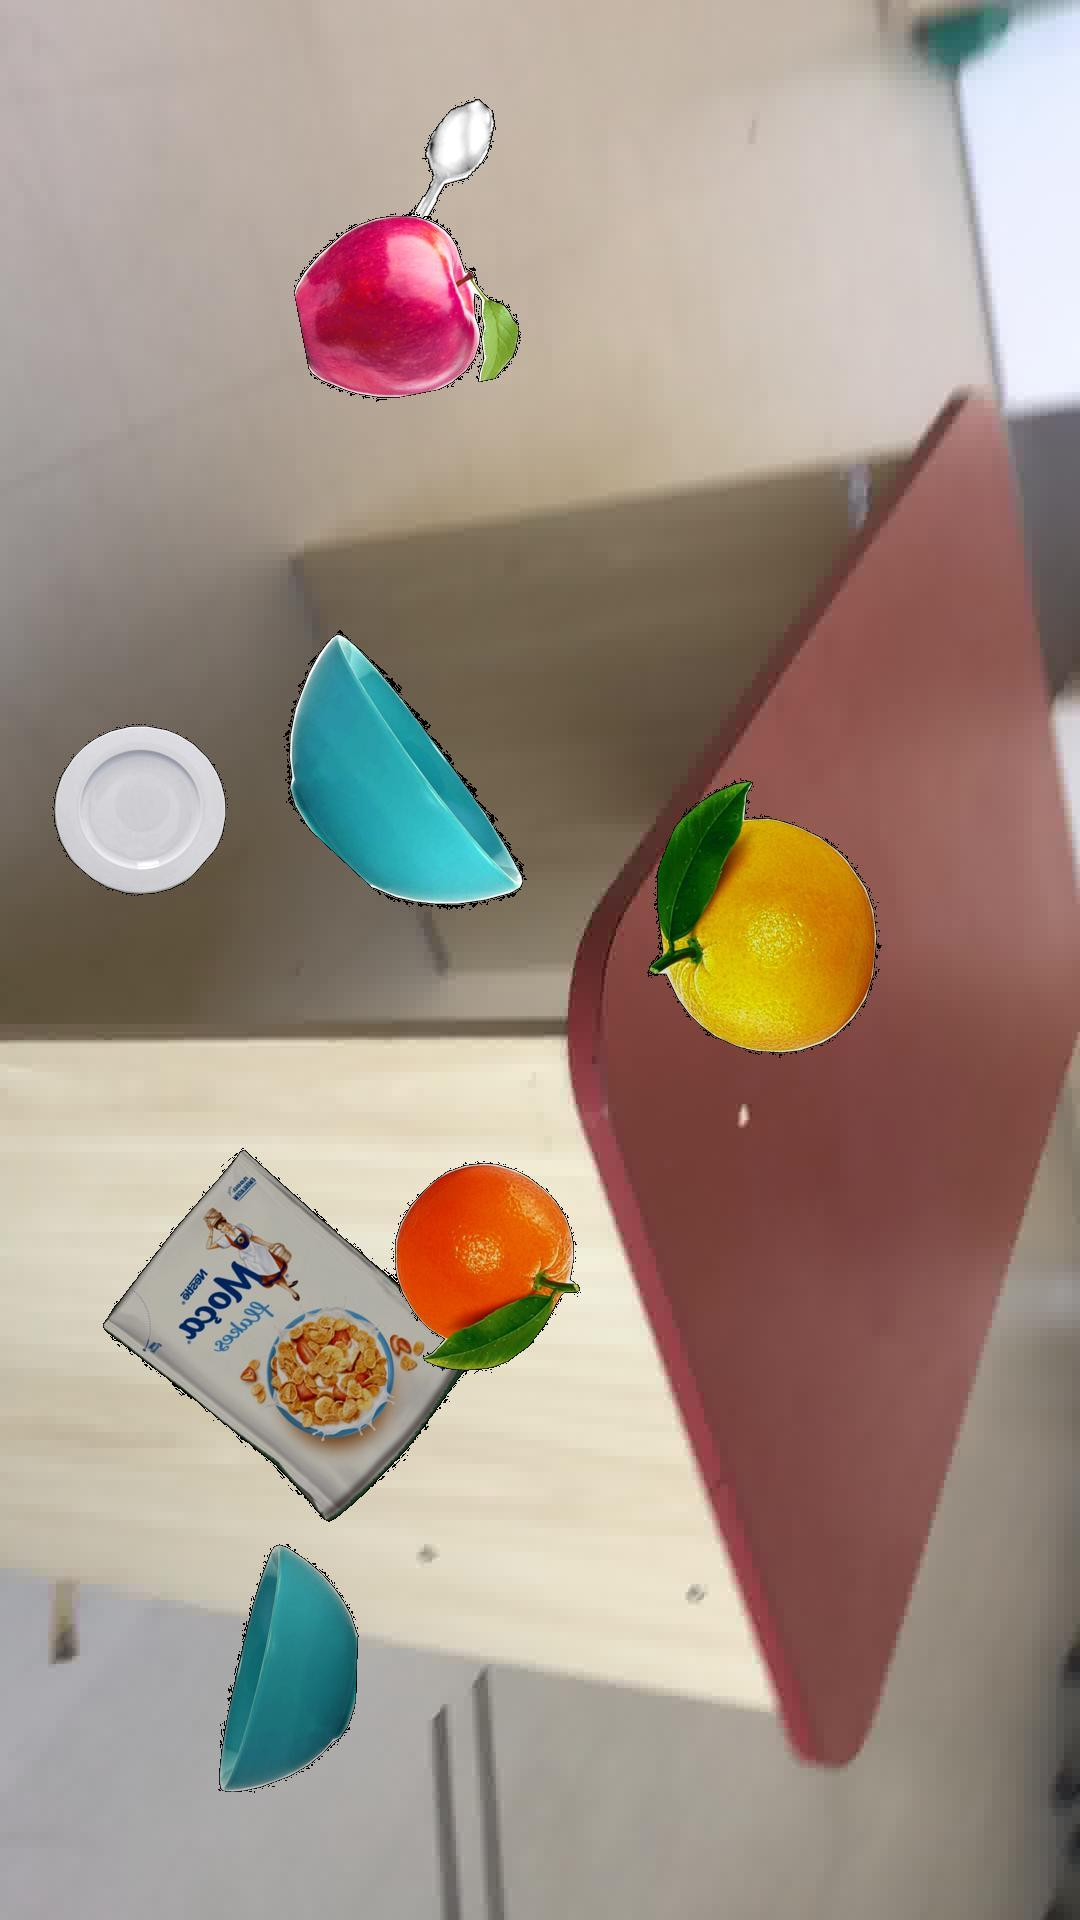apple: (293, 212, 520, 397)
bowl: (284, 629, 524, 909), (218, 1543, 357, 1791)
corn flakes: (102, 1149, 463, 1520)
orange: (646, 778, 881, 1054), (393, 1160, 579, 1370)
plate: (51, 724, 224, 894)
spoon: (407, 98, 493, 216)
